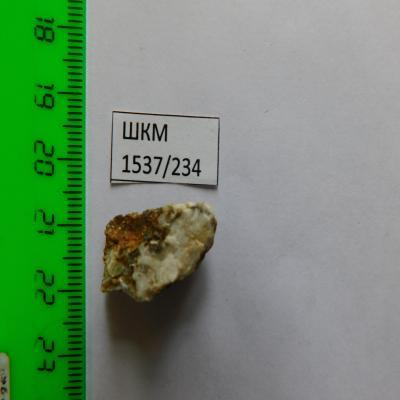mineralogy: (100, 202, 218, 305)
